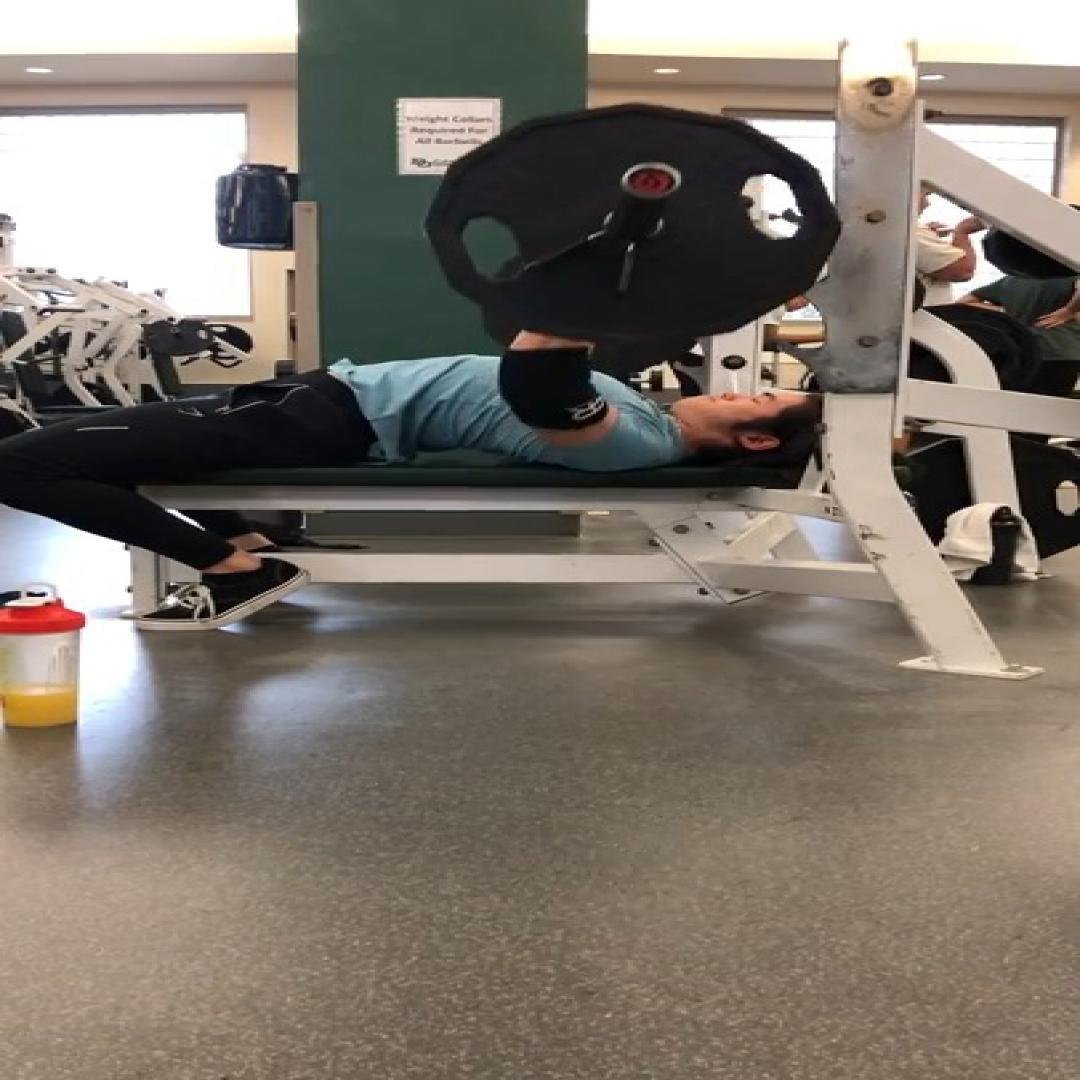Bar: (617, 161, 684, 201)
Barbell: (423, 102, 841, 345)
